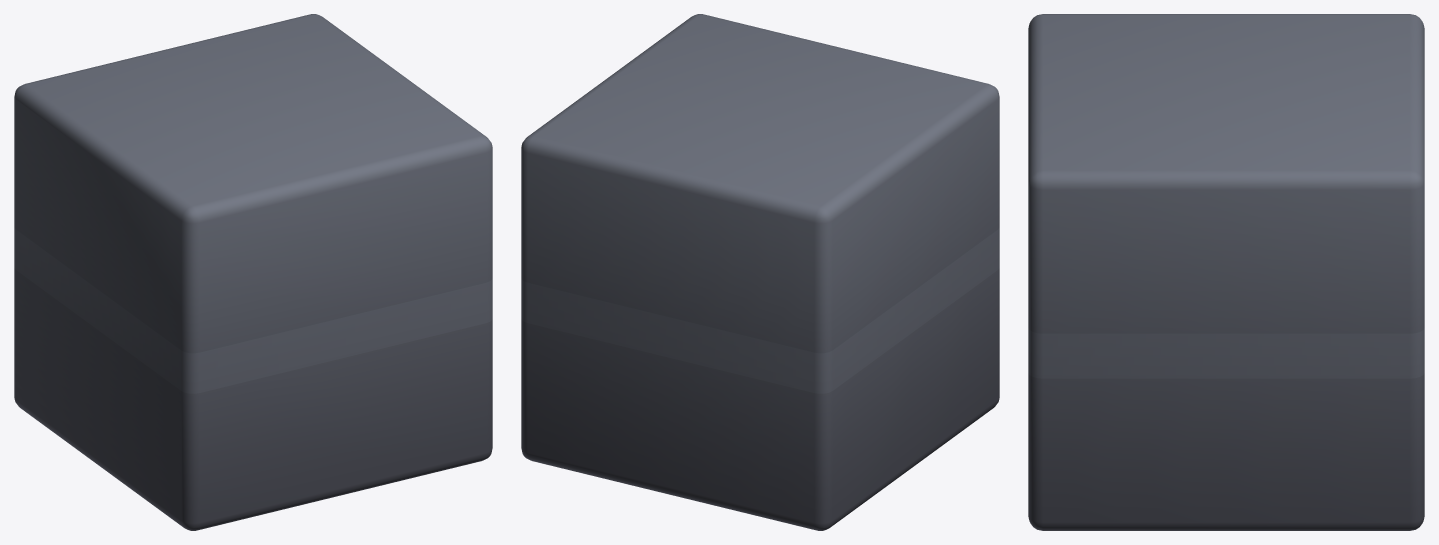
3 renders of one model, left to right at view 1: azimuth 30°, elevation 25°; view 2: azimuth 150°, elevation 25°; view 3: azimuth 270°, elevation 25°, orthographic. The views are drawn at different scales.
Parts seen in each view (by area): view 1: Cube_08; view 2: Cube_08; view 3: Cube_08.
Part boxes in pixels (<box>): Cube_08: <box>14,14,492,530</box>; Cube_08: <box>521,14,999,530</box>; Cube_08: <box>1028,14,1424,530</box>.
Bounding box in the file's own units: 2 × 2 × 2.
